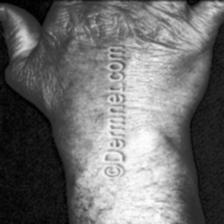Toxin: (70, 103, 98, 125), (73, 27, 99, 42), (146, 32, 168, 48)
